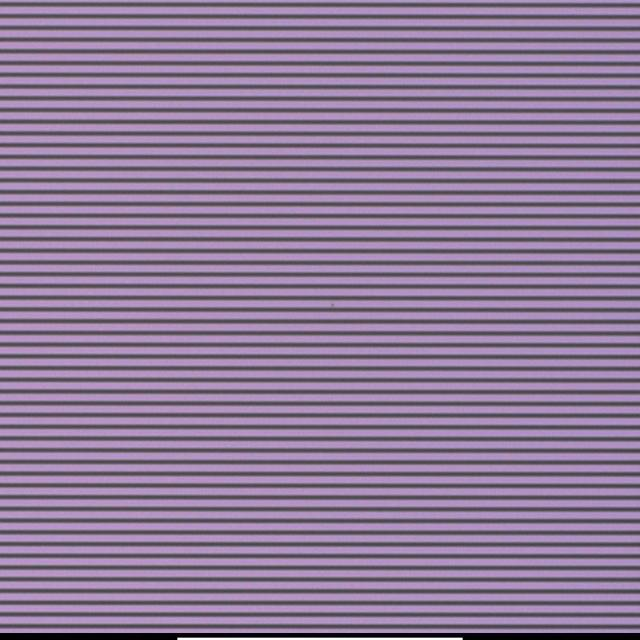nonvisual: (326, 300, 340, 310)
